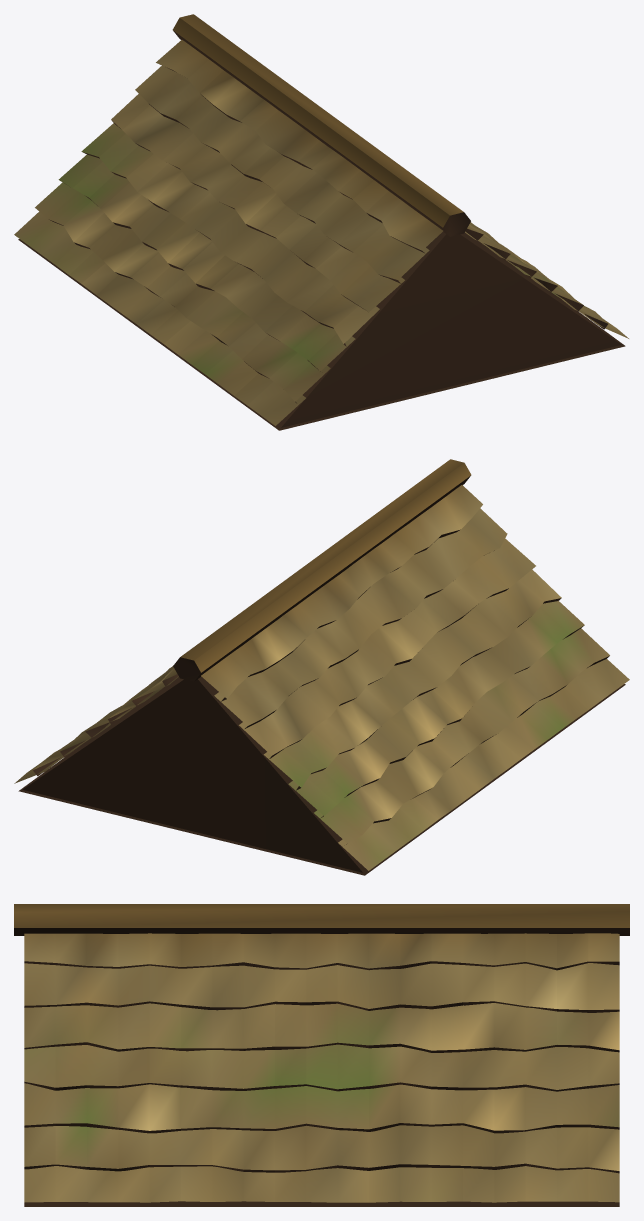
Rendered from roof_0.glb.
The picture shows the model from 3 angles, top to bottom: view 1: azimuth 30°, elevation 25°; view 2: azimuth 150°, elevation 25°; view 3: azimuth 270°, elevation 25°; orthographic projection. The views are drawn at different scales.
Visible parts, largest first — view 1: roof_0; view 2: roof_0; view 3: roof_0.
Part boxes in pixels (bbox=[...]): roof_0: bbox=[14, 14, 628, 430]; roof_0: bbox=[14, 459, 629, 875]; roof_0: bbox=[14, 904, 629, 1206].
Bounding box in the file's own units: 6.4 × 3.04 × 8.38.
